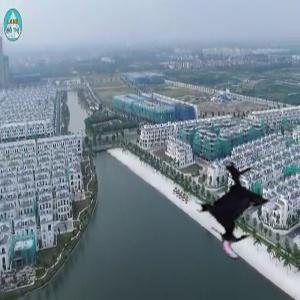drone: (187, 156, 295, 264)
